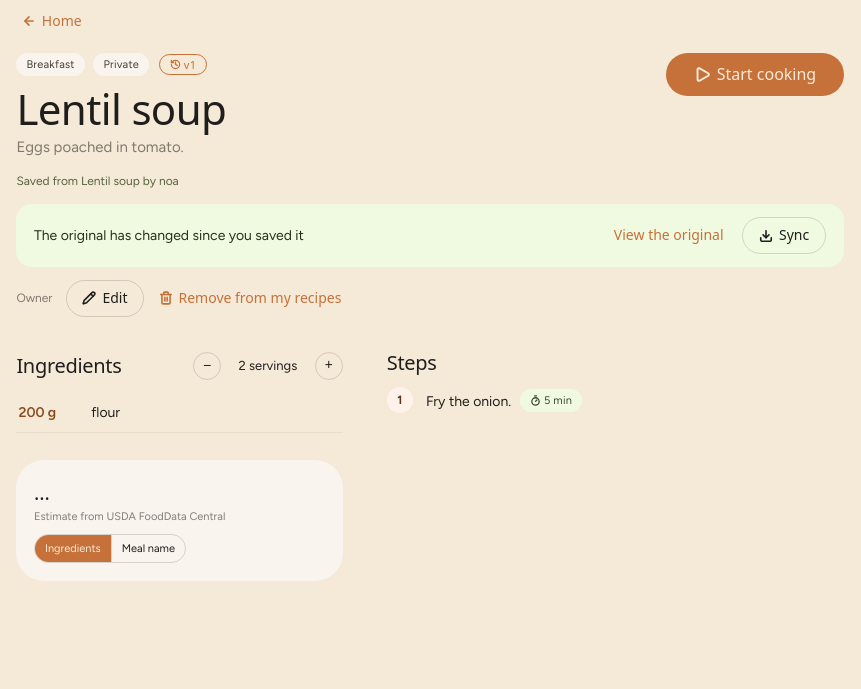
Scenario: RecipeDetailScreen › SAVE-10 shows the API message and keeps the banner when Sync fails
Click the button "Sync". click: (784, 236)
box: left=742, top=217, right=826, bottom=254
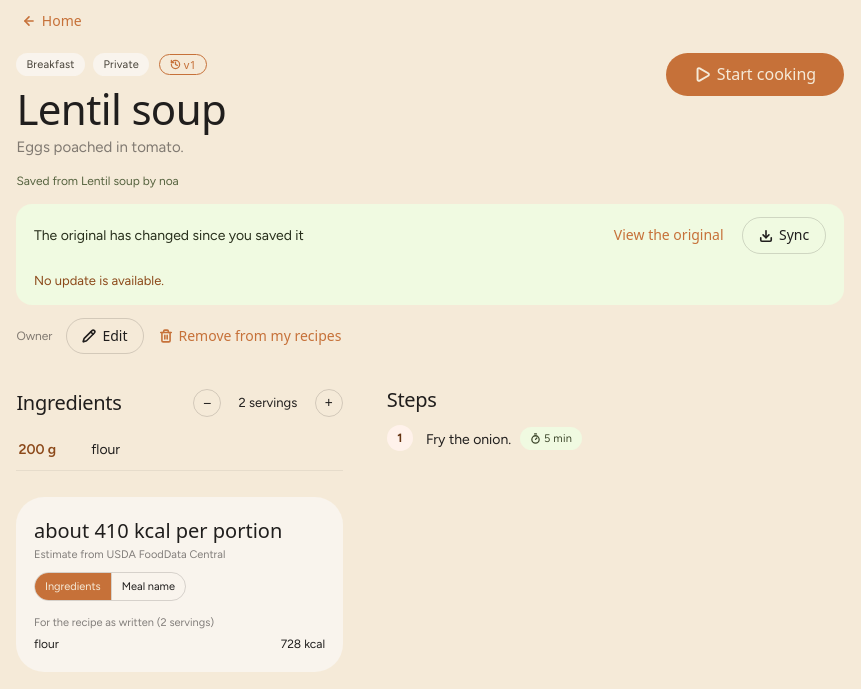
Expected: the text "The original has changed since you saved it" is shown, left=34, top=227, right=304, bottom=244
Expected: the text "No update is available." is shown, left=34, top=273, right=164, bottom=288
